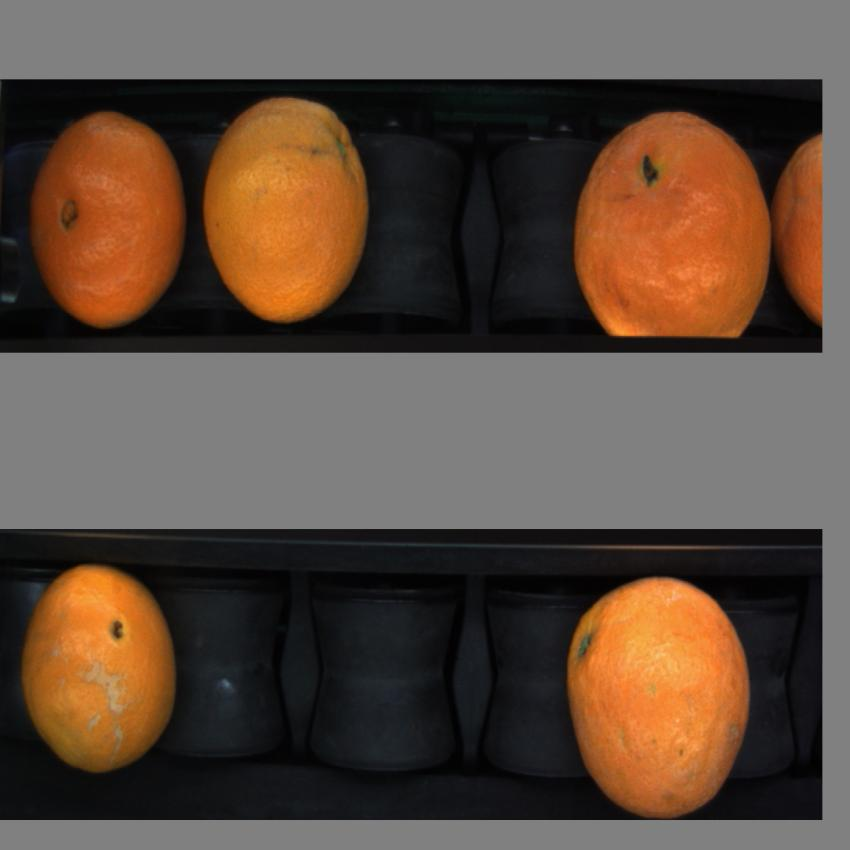Buen estado: (562, 569, 754, 814), (202, 92, 374, 317), (27, 98, 189, 324), (772, 124, 822, 332)
Mal estado: (572, 99, 774, 349), (16, 570, 192, 774)
